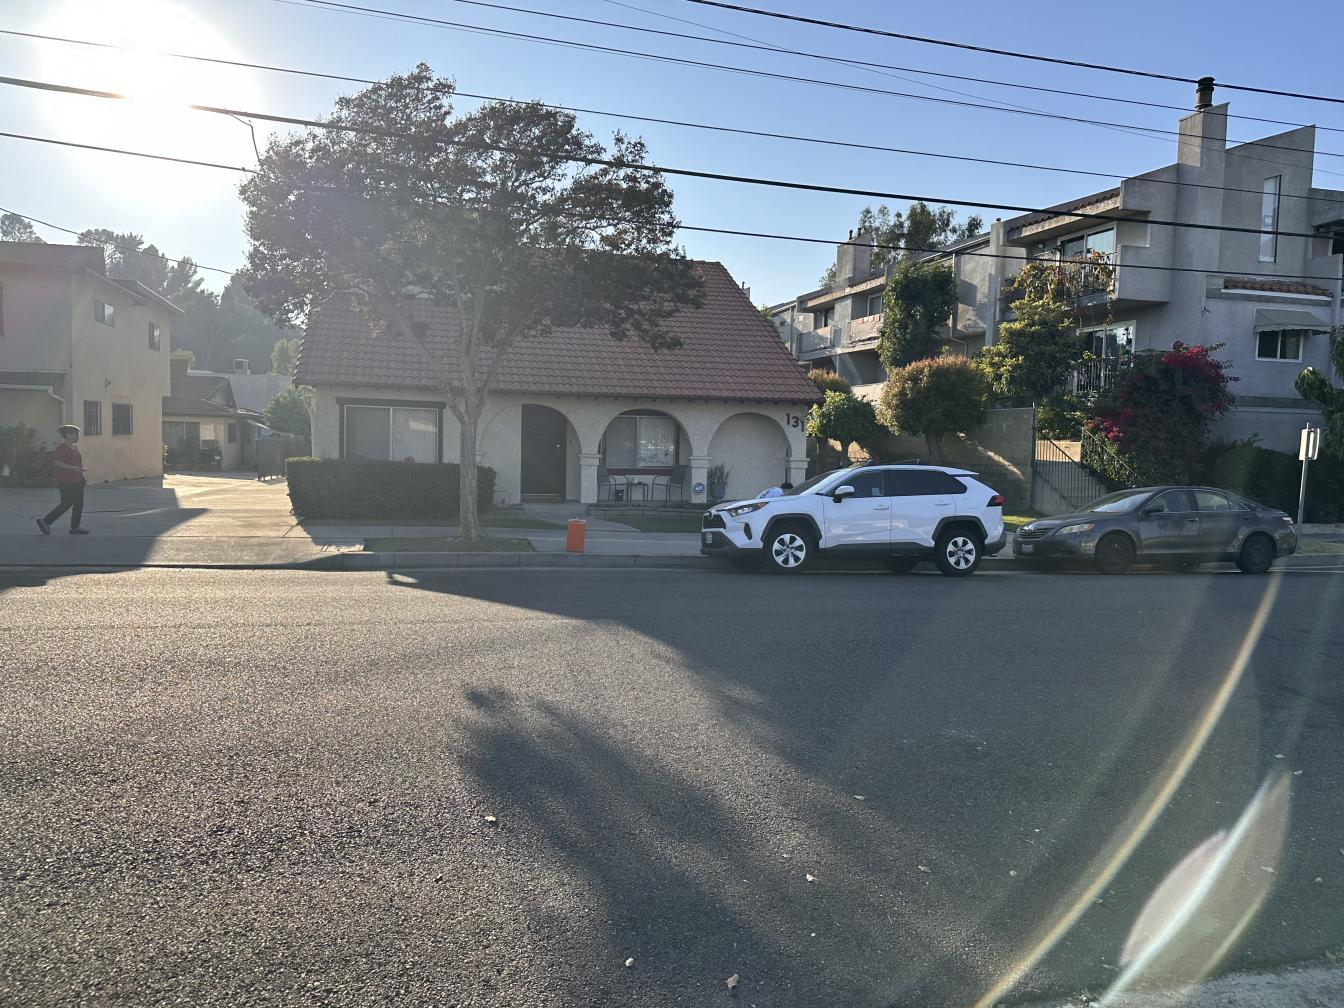curbs-laRr: (347, 550, 563, 572), (566, 552, 702, 571), (1297, 551, 1344, 568)
orange box: (567, 519, 586, 553)
